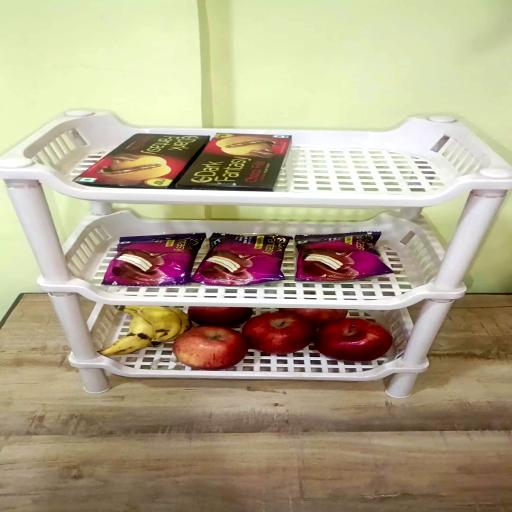Apple: (175, 326, 252, 370), (315, 319, 392, 362), (244, 311, 318, 355), (188, 307, 252, 329), (282, 308, 348, 328)
Choco Fills: (74, 132, 209, 188), (180, 132, 294, 190)
Choco Pie: (101, 234, 204, 287), (194, 235, 294, 288), (296, 233, 394, 283)
